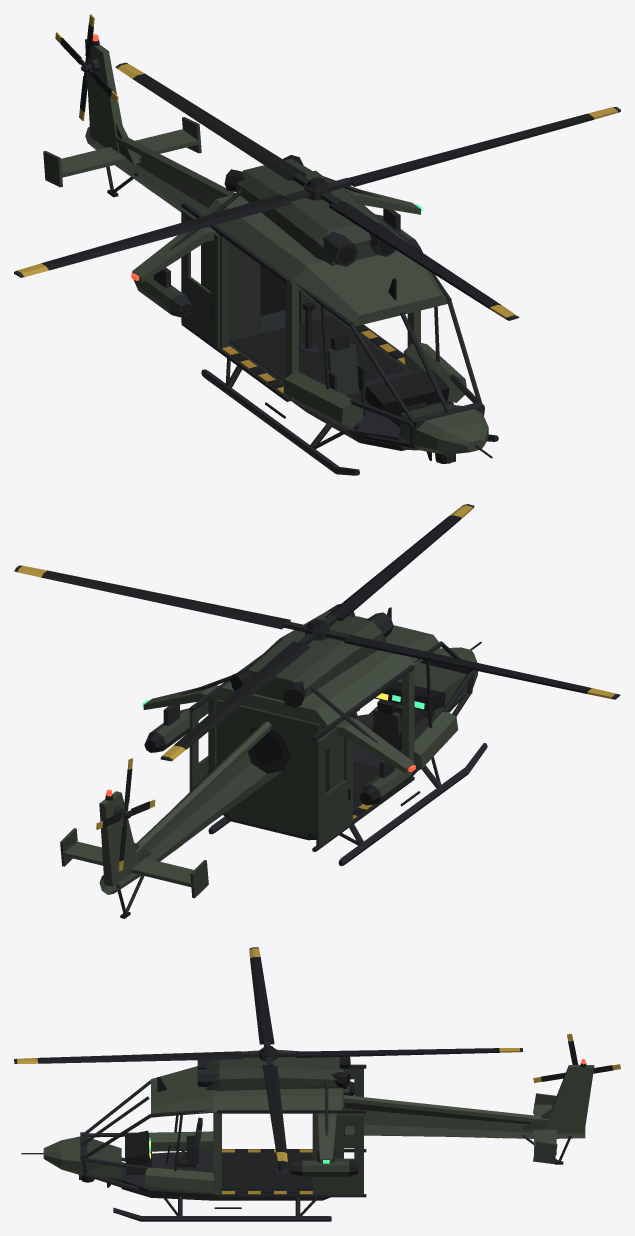
The model's file is maru_gunship.glb.
The picture shows the model from 3 angles, top to bottom: view 1: azimuth 30°, elevation 25°; view 2: azimuth 150°, elevation 25°; view 3: azimuth 270°, elevation 25°; orthographic projection. The views are drawn at different scales.
Visible parts, largest first — view 1: cabin_roof_shell, engine_cowling_doghouse, interior_rubber_mat, main_blade_2, bulkhead_port, tail_boom_tube, main_blade_1, nose_radome_cone, belly_floor_slab, main_blade_0, main_blade_3, vertical_tail_fin (+16 smaller); view 2: aft_stern_bulkhead_cap, cabin_roof_shell, engine_cowling_doghouse, tail_boom_tube, main_blade_0, main_blade_1, main_blade_2, vertical_tail_fin, main_blade_3, tail_driveshaft_tunnel, sliding_door_low_port, horiz_stabilizer (+16 smaller); view 3: cabin_roof_shell, tail_boom_tube, engine_cowling_doghouse, interior_rubber_mat, belly_floor_slab, vertical_tail_fin, tail_driveshaft_tunnel, main_blade_3, cockpit_cheek_stbd, skid_runner_stbd, main_blade_1, sliding_door_low_stbd (+14 smaller).
Part boxes in pixels (<box>): cabin_roof_shell: <box>203,195,447,327</box>; engine_cowling_doghouse: <box>235,158,386,265</box>; interior_rubber_mat: <box>229,316,405,385</box>; main_blade_2: <box>41,194,291,270</box>; bulkhead_port: <box>229,242,260,341</box>; tail_boom_tube: <box>85,126,221,218</box>; main_blade_1: <box>133,73,305,180</box>; nose_radome_cone: <box>415,408,488,454</box>; belly_floor_slab: <box>229,316,453,450</box>; main_blade_0: <box>348,114,593,186</box>; main_blade_3: <box>329,201,501,309</box>; vertical_tail_fin: <box>85,39,122,152</box>; aft_stern_bulkhead_cap: <box>216,699,321,834</box>; cabin_roof_shell: <box>209,616,441,726</box>; engine_cowling_doghouse: <box>247,611,385,700</box>; tail_boom_tube: <box>99,730,282,894</box>; main_blade_0: <box>41,570,290,629</box>; main_blade_1: <box>174,641,309,749</box>; main_blade_2: <box>344,635,591,693</box>; vertical_tail_fin: <box>99,791,138,886</box>; main_blade_3: <box>325,515,461,621</box>; tail_driveshaft_tunnel: <box>136,721,271,855</box>; sliding_door_low_port: <box>316,776,352,847</box>; horiz_stabilizer: <box>62,841,193,887</box>; cabin_roof_shell: <box>151,1066,341,1117</box>; tail_boom_tube: <box>344,1102,585,1138</box>; engine_cowling_doghouse: <box>206,1049,339,1090</box>; interior_rubber_mat: <box>222,1153,312,1189</box>; belly_floor_slab: <box>121,1150,330,1200</box>; vertical_tail_fin: <box>544,1065,594,1132</box>; tail_driveshaft_tunnel: <box>344,1095,548,1123</box>; main_blade_3: <box>37,1051,242,1063</box>; cockpit_cheek_stbd: <box>144,1167,214,1193</box>; skid_runner_stbd: <box>113,1207,331,1221</box>; main_blade_1: <box>295,1048,499,1058</box>; sliding_door_low_stbd: <box>312,1158,363,1195</box>.
Bounding box in the file's own units: 10.39 × 3.58 × 12.39.
